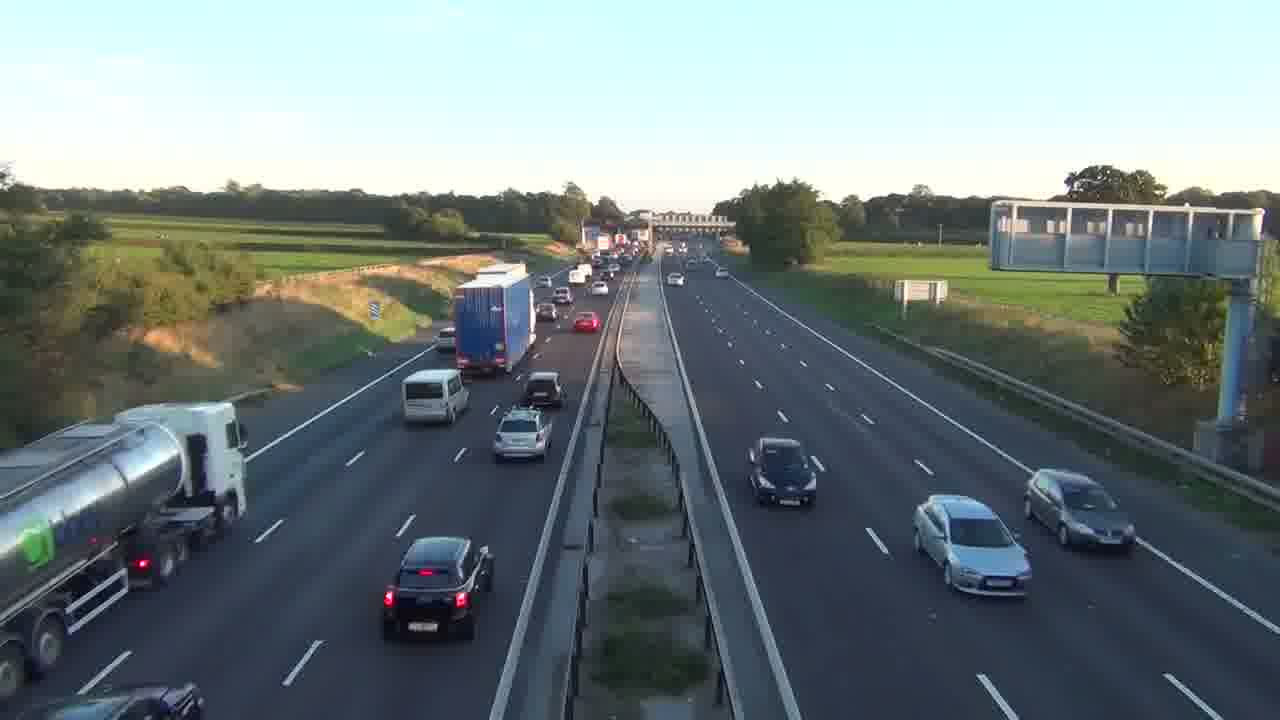car: (912, 493, 1032, 597), (381, 535, 495, 642), (1023, 466, 1137, 553), (44, 681, 206, 719), (746, 435, 822, 508), (493, 408, 553, 461), (524, 370, 564, 409), (573, 312, 602, 333)
truck: (1, 400, 248, 692), (451, 279, 535, 376), (401, 367, 470, 426)
